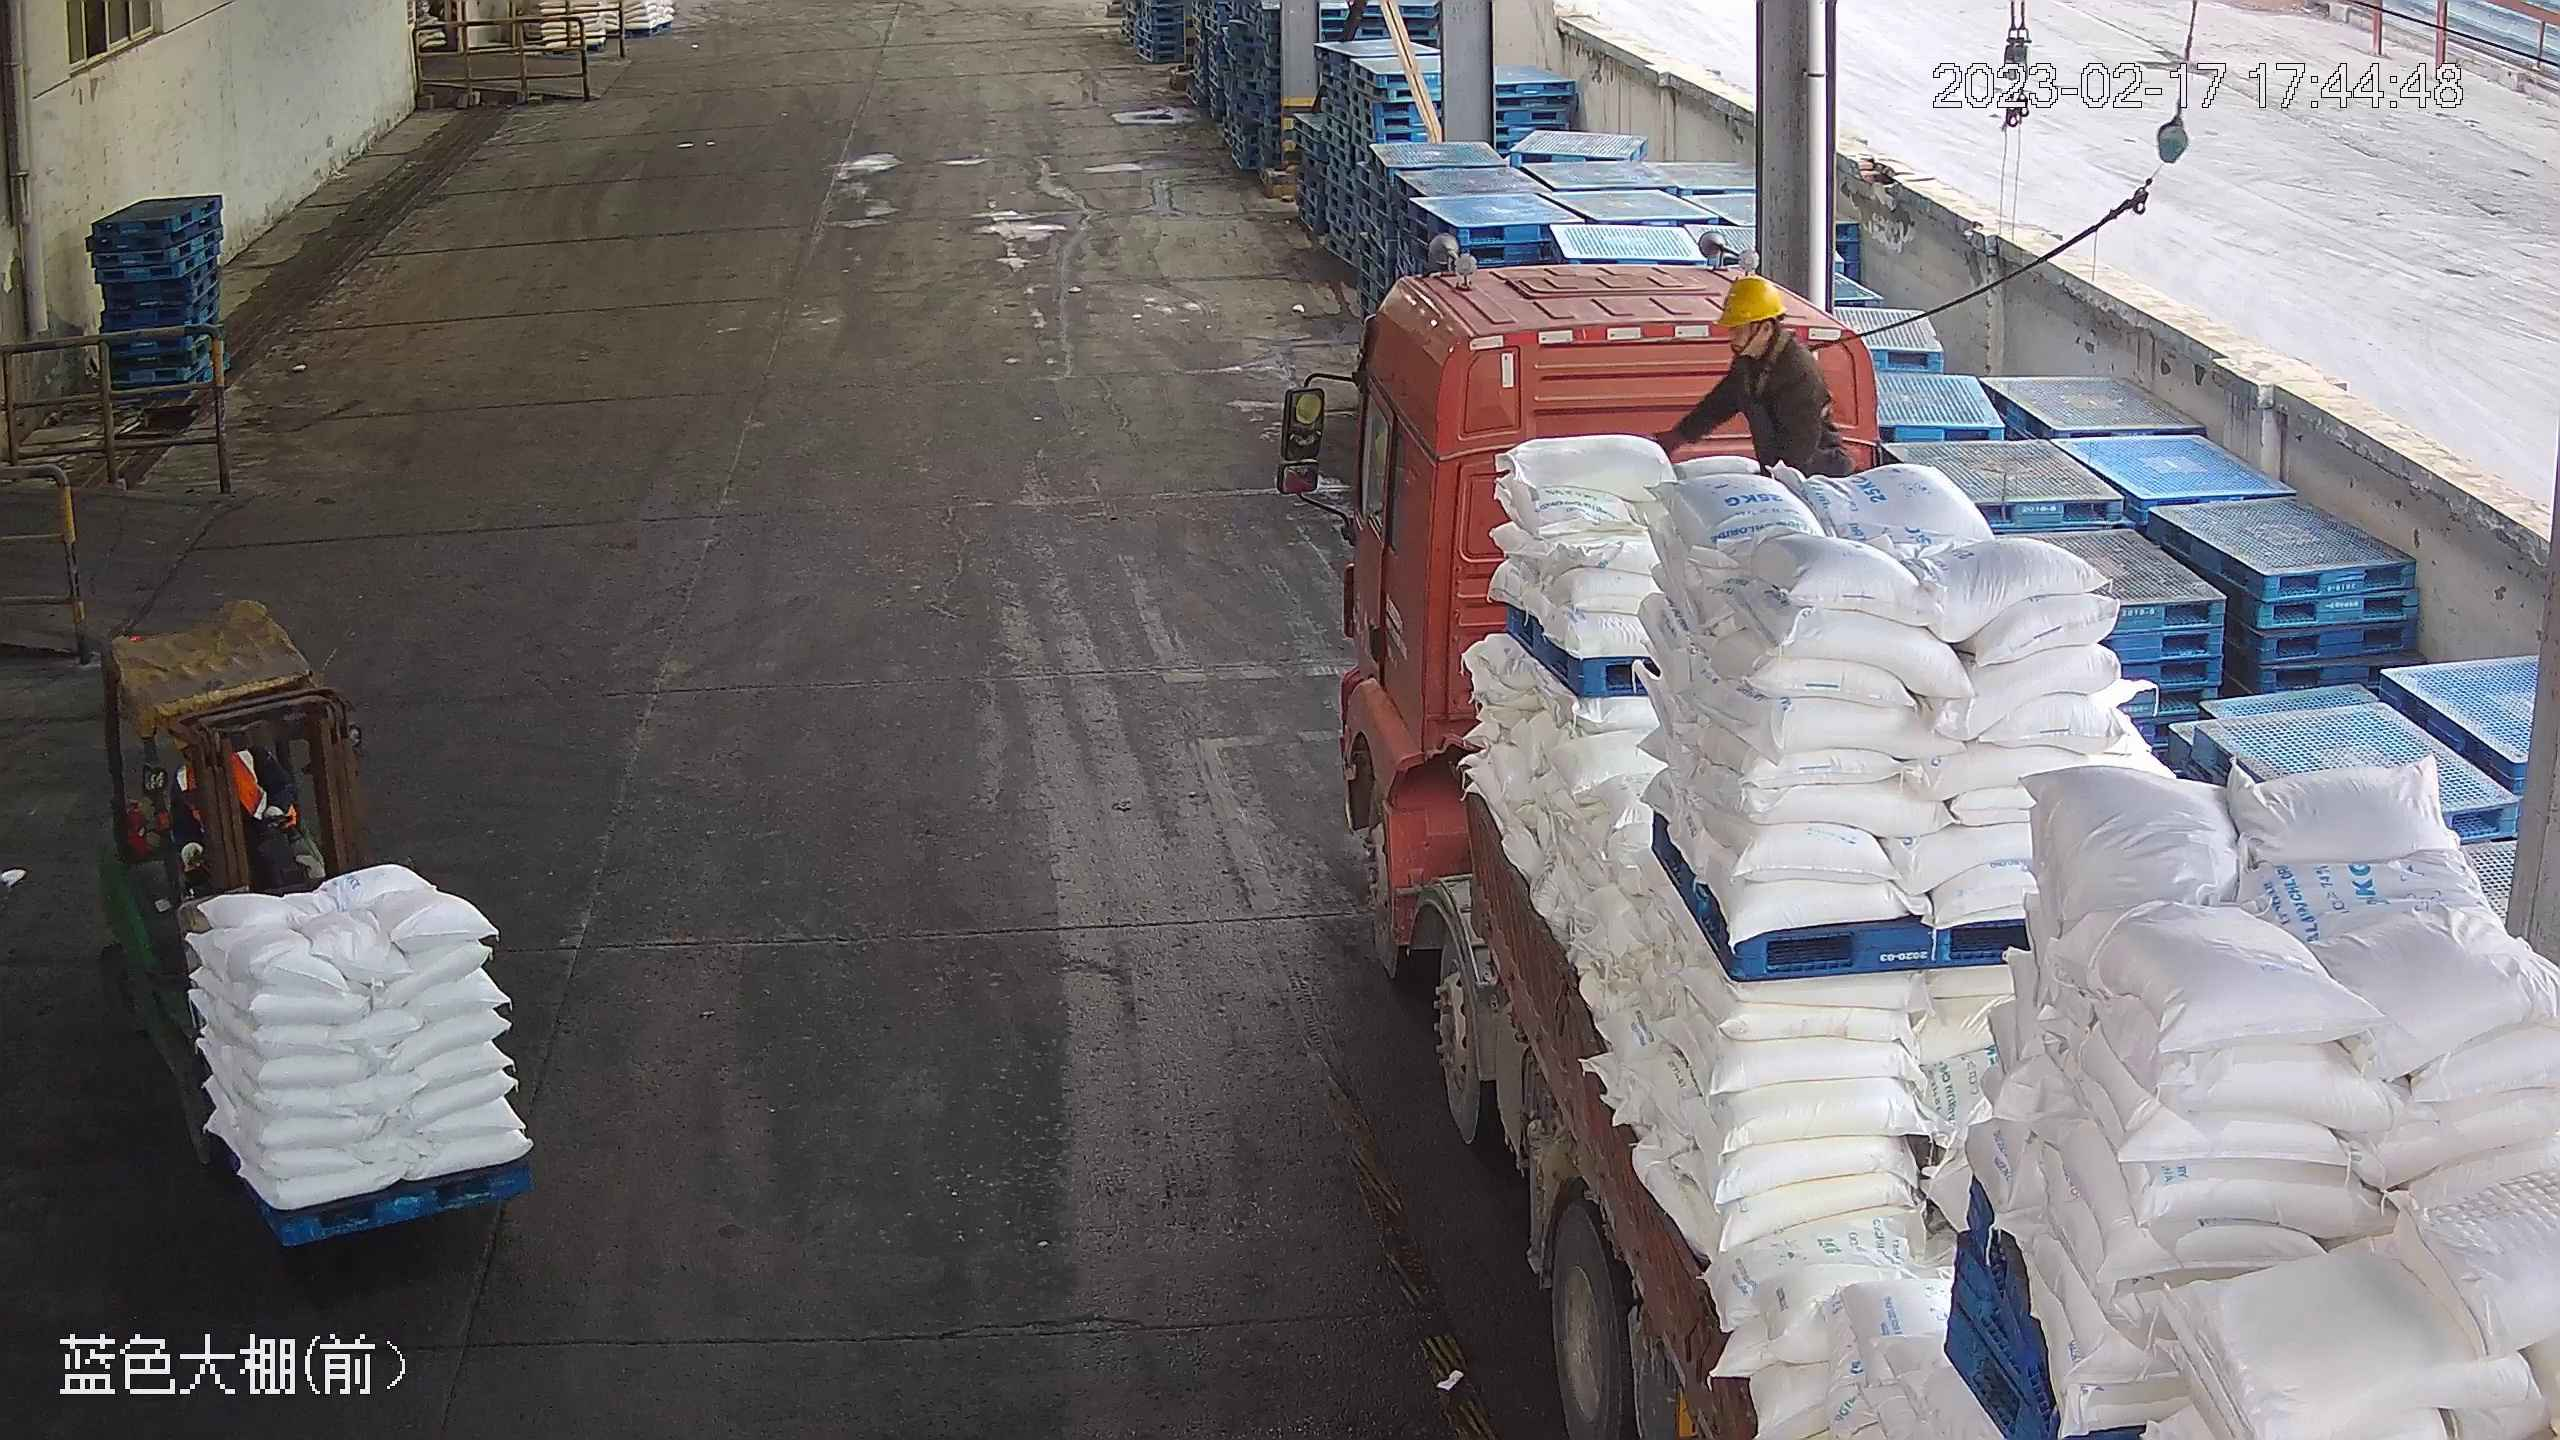belt: (1736, 330, 1786, 409)
head: (1690, 272, 1828, 428)
helmet: (1711, 275, 1788, 329)
truck: (1276, 257, 2560, 1440)
